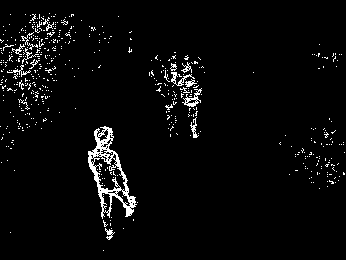person: (92, 126, 136, 239)
